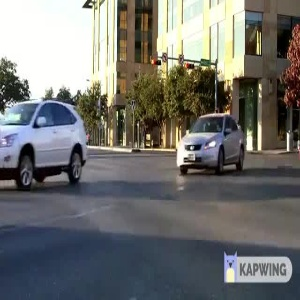car: (171, 113, 249, 178)
suv: (1, 96, 89, 183)
